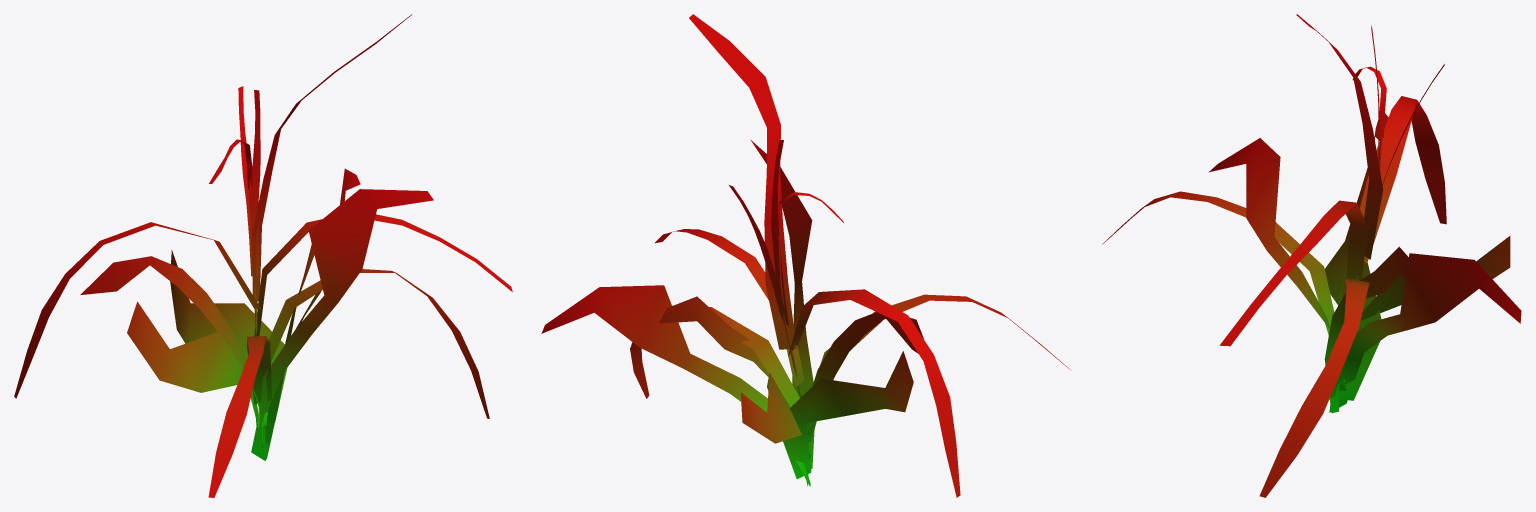
The model's file is Var10_LOD1.fbx.
3 views of the same model, side by side, from view 1: azimuth 30°, elevation 25°; view 2: azimuth 150°, elevation 25°; view 3: azimuth 270°, elevation 25° (orthographic). The views are drawn at different scales.
Parts seen in each view (by area): view 1: _454a_Var10_LOD1; view 2: _454a_Var10_LOD1; view 3: _454a_Var10_LOD1.
Boxes of the visible parts, <box> form: _454a_Var10_LOD1: <box>14,14,512,497</box>; _454a_Var10_LOD1: <box>541,14,1070,497</box>; _454a_Var10_LOD1: <box>1102,14,1521,497</box>.
Bounding box in the file's own units: 26.36 × 26.82 × 21.72.
